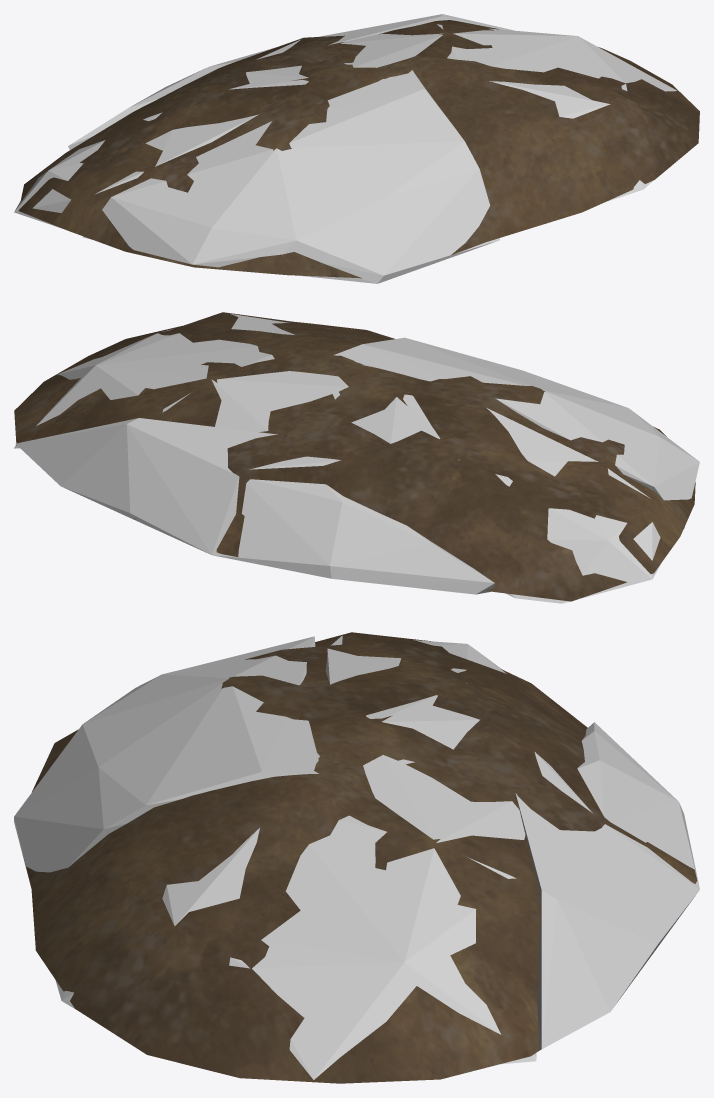
The model's file is SM_Dirt_Mound_D.fbx.
3 views of the same model, one above another, from view 1: azimuth 30°, elevation 25°; view 2: azimuth 150°, elevation 25°; view 3: azimuth 270°, elevation 25° (orthographic). The views are drawn at different scales.
Visible parts, largest first — view 1: SM_Dirt_Mound_D_ConvexHulls, SM_Dirt_Mound_D; view 2: SM_Dirt_Mound_D_ConvexHulls, SM_Dirt_Mound_D; view 3: SM_Dirt_Mound_D, SM_Dirt_Mound_D_ConvexHulls.
Part boxes in pixels (x1,y1,x2,y2): SM_Dirt_Mound_D_ConvexHulls: (14,14,677,283); SM_Dirt_Mound_D: (18,20,699,278); SM_Dirt_Mound_D_ConvexHulls: (14,314,699,603); SM_Dirt_Mound_D: (14,312,695,601); SM_Dirt_Mound_D: (24,632,697,1083); SM_Dirt_Mound_D_ConvexHulls: (14,635,699,1079).
Size of the model in its own units: 107 by 71.65 by 17.03.
Materials: 2 (1 with a texture image).
